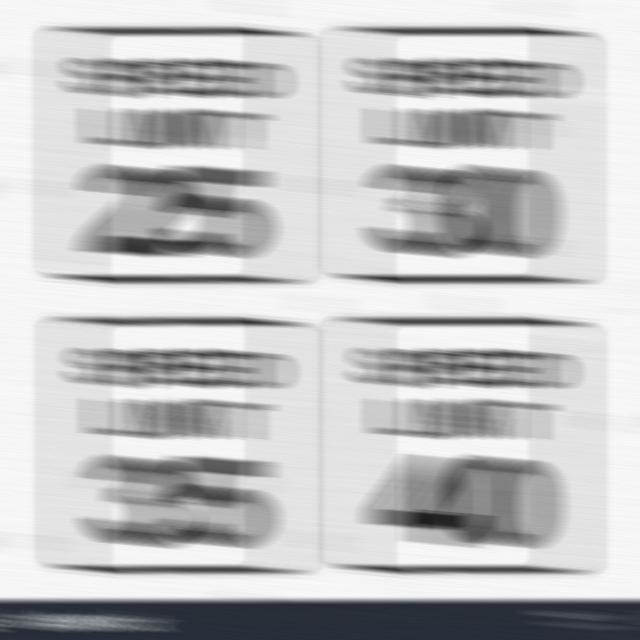speedLimit25: (59, 24, 296, 285)
speedLimit30: (339, 24, 585, 274)
speedLimit35: (58, 311, 300, 572)
speedLimit40: (341, 308, 587, 570)
